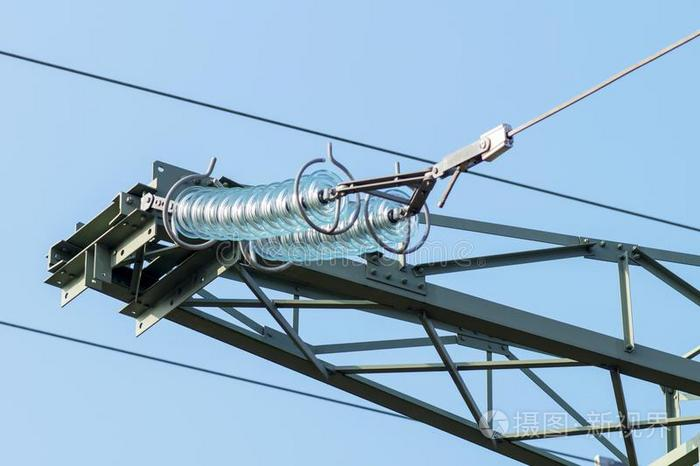insulator: (251, 185, 421, 261), (172, 168, 347, 237)
